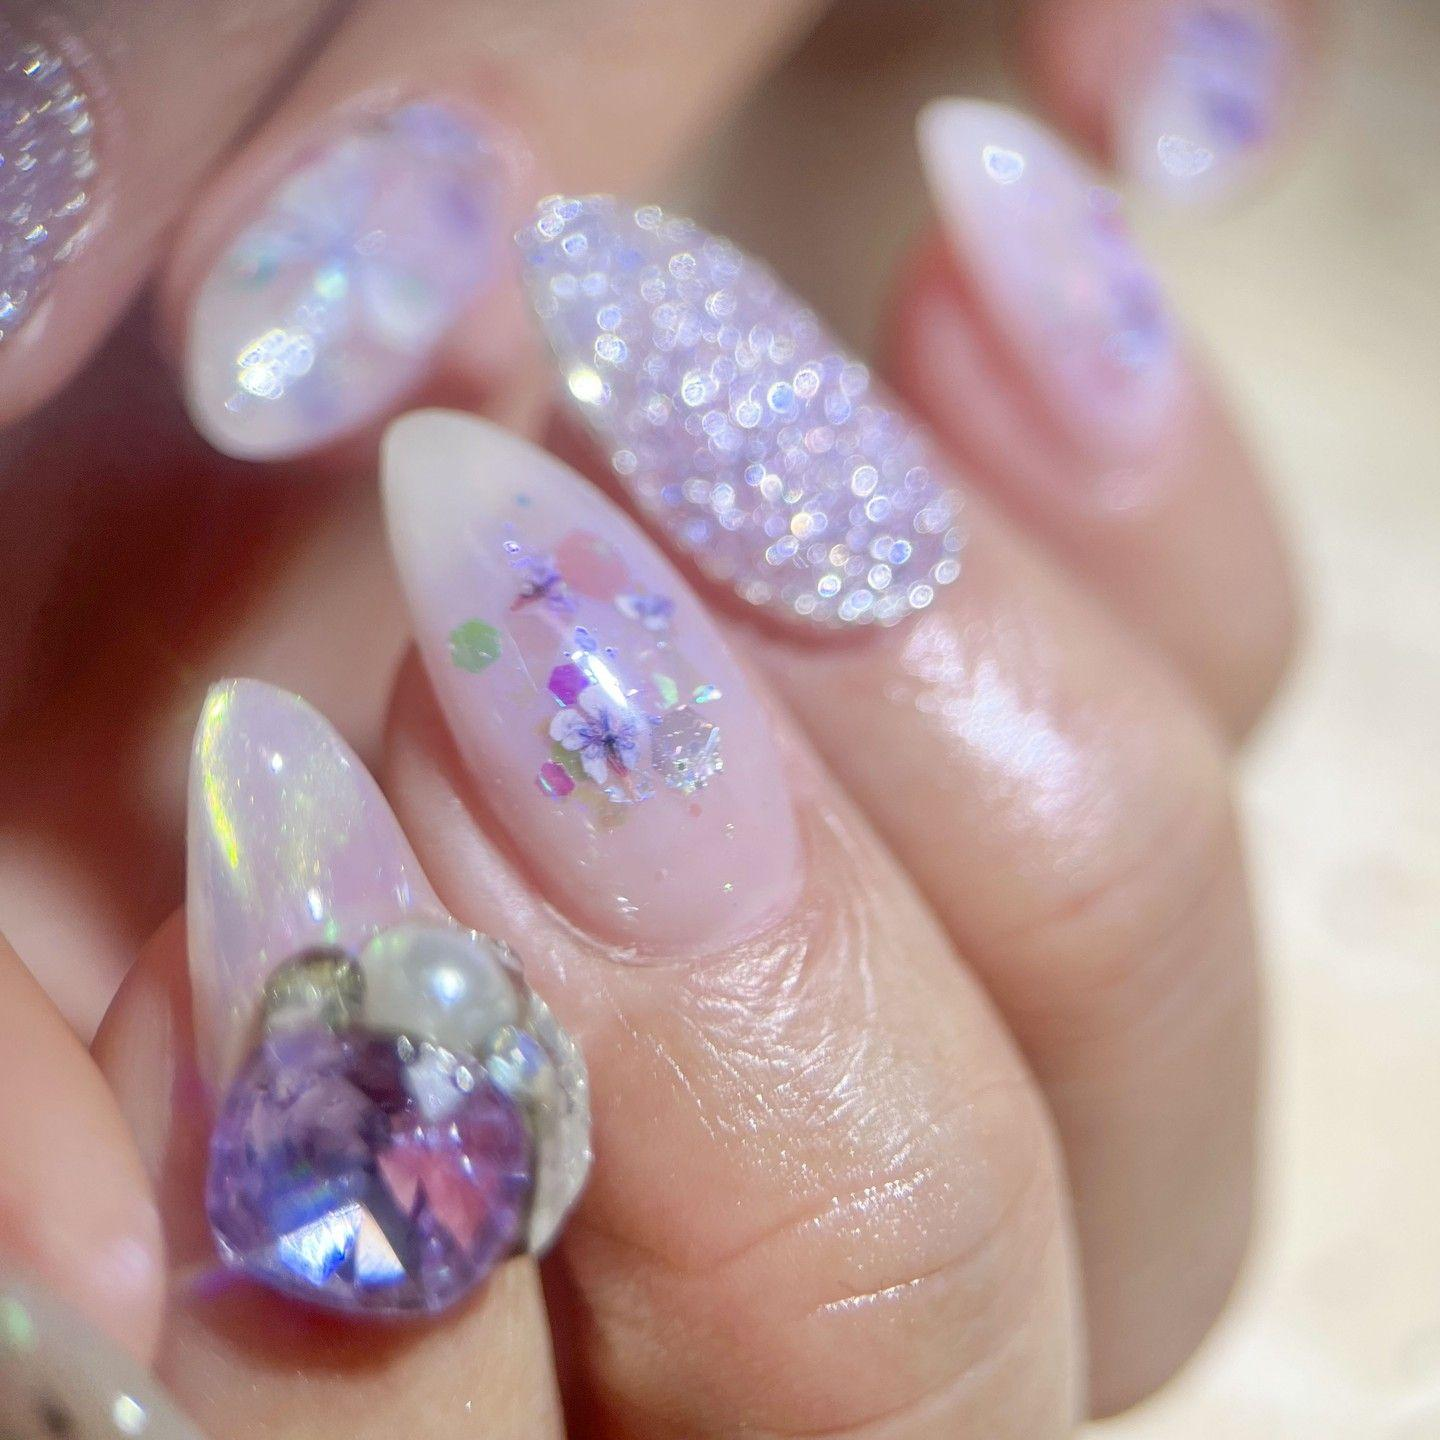nail: (179, 674, 593, 1323), (375, 404, 807, 964), (512, 189, 968, 640), (165, 80, 534, 463), (913, 94, 1192, 475)
